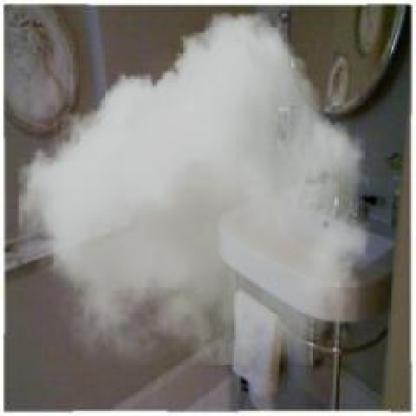Smoke: (18, 13, 370, 365)
